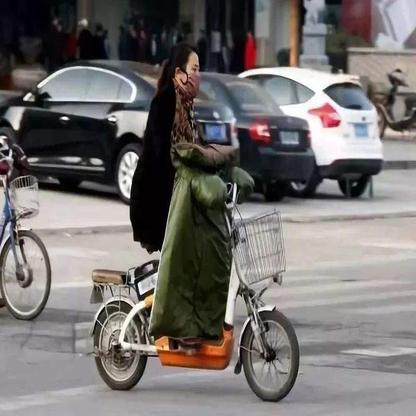target: (87, 43, 300, 406)
